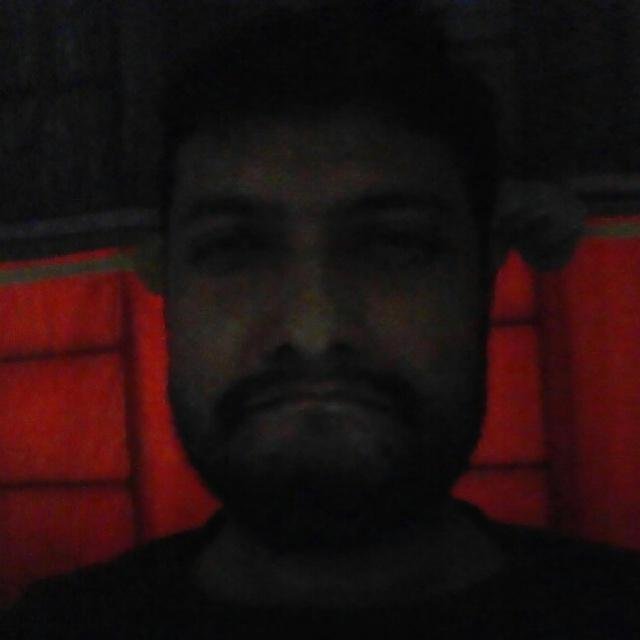Sad: (138, 55, 517, 572)
